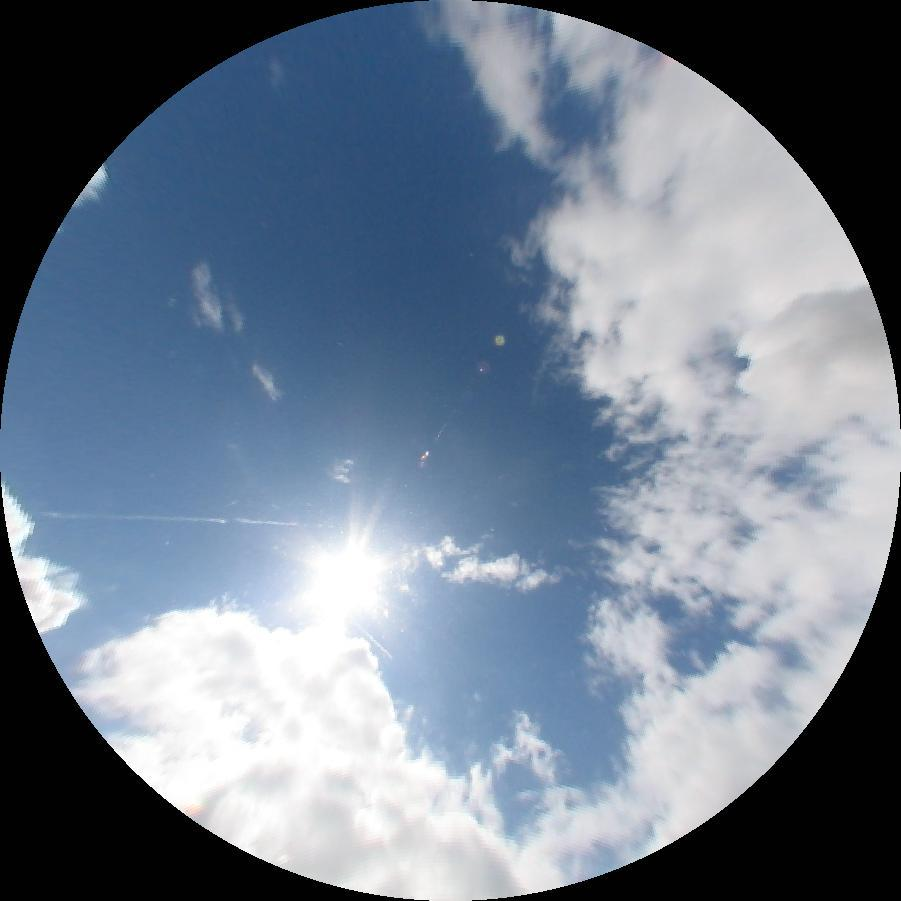contrail young: (358, 625, 394, 660), (223, 497, 240, 509)
parasite: (43, 511, 298, 526)
sun: (299, 535, 392, 628)
